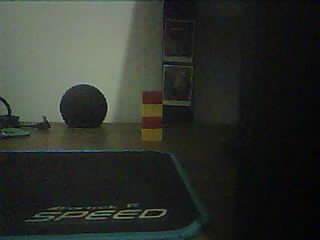lego: (141, 90, 163, 141)
